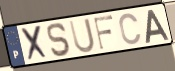A: (145, 8, 171, 45)
C: (118, 12, 143, 46)
F: (93, 14, 115, 51)
S: (46, 22, 73, 58)
U: (68, 17, 97, 55)
X: (20, 24, 50, 63)
